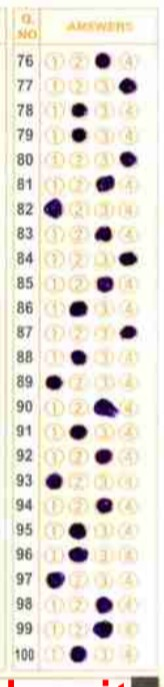filled circles: (94, 398, 118, 417), (44, 198, 62, 218), (93, 620, 112, 638), (96, 175, 115, 192), (69, 523, 87, 540), (46, 571, 64, 588), (119, 77, 136, 94), (69, 546, 87, 562), (95, 448, 112, 464), (96, 596, 112, 613), (69, 301, 87, 316), (97, 276, 113, 292), (120, 151, 136, 167), (46, 473, 62, 489), (70, 646, 86, 662), (96, 497, 112, 513), (119, 251, 137, 265), (95, 52, 110, 68), (70, 424, 86, 439), (95, 226, 111, 241), (46, 375, 62, 389), (72, 127, 86, 142), (71, 350, 86, 364), (72, 103, 87, 117), (120, 325, 136, 338)
